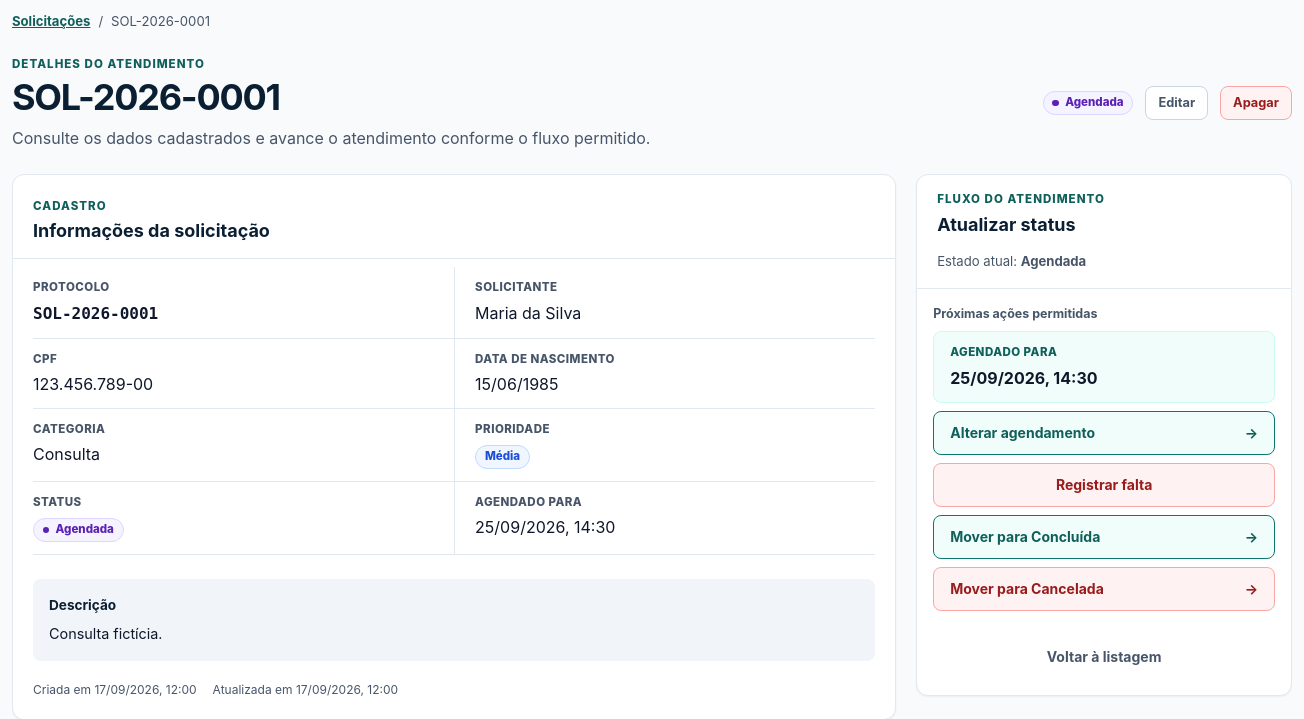
it: Agendamento no detalhe da solicitação › permite registrar falta pela tela do agendamento ativo
This screenshot has width=1304, height=719.
Click the button "Registrar falta" at (1104, 485), box [933,463,1275,507]
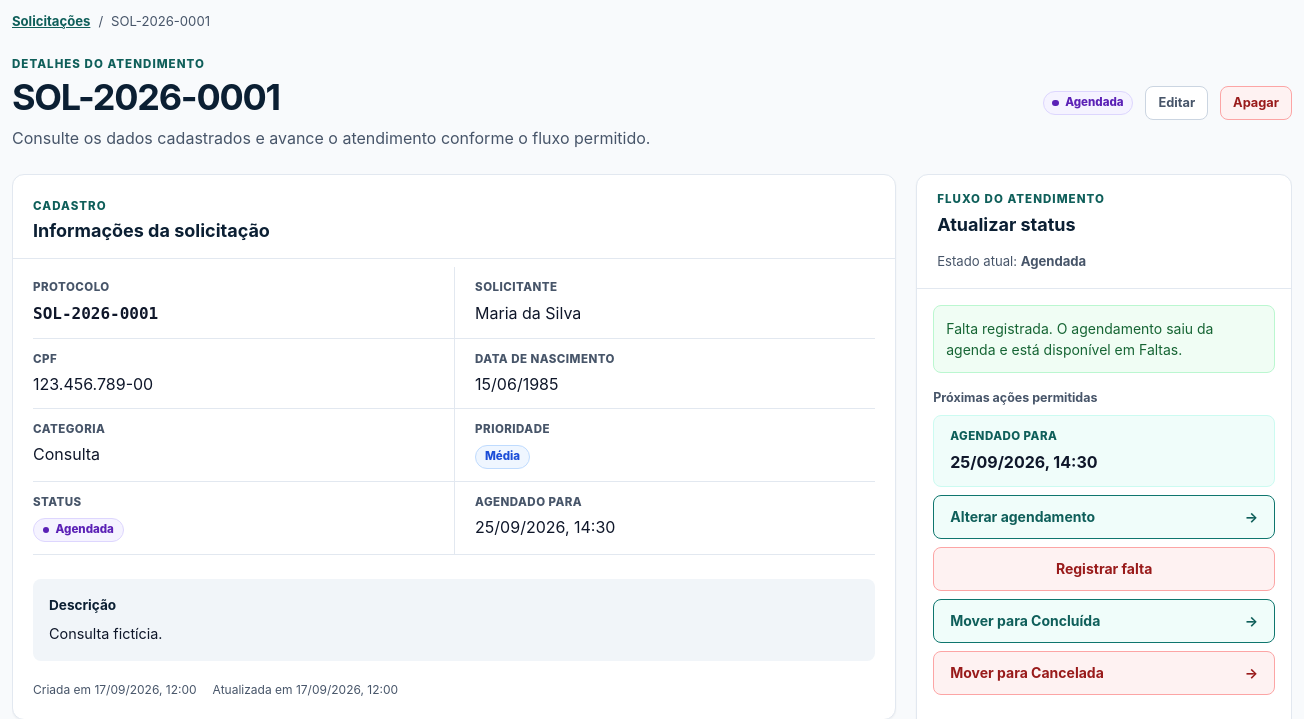
Expected: the message shows "Falta registrada", [946,320,1213,358]
